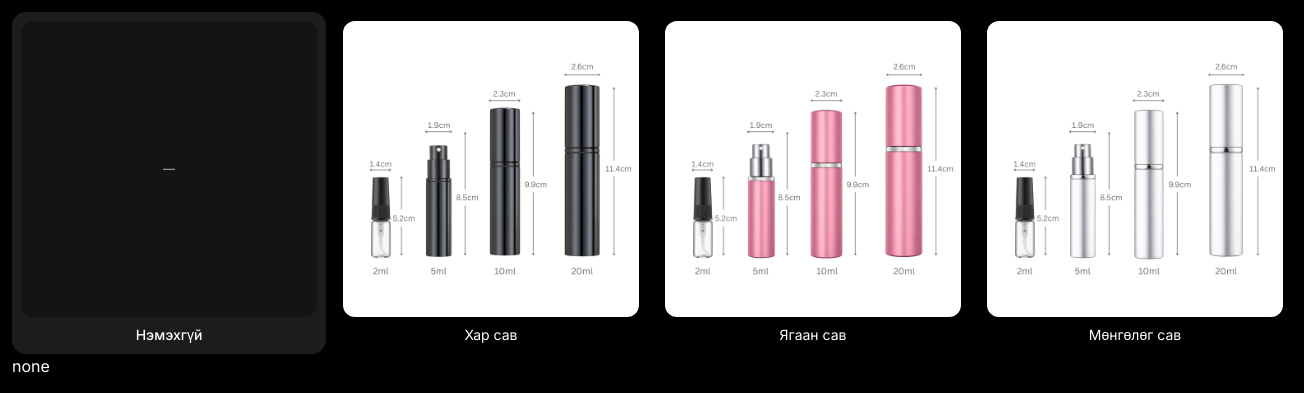
Test case: BottleStylePicker › «Нэмэхгүй» дарж сонголтоо буцаана
Click the radio button labelled "Хар сав" at (491, 183), box x1=334 y1=12 x2=648 y2=354
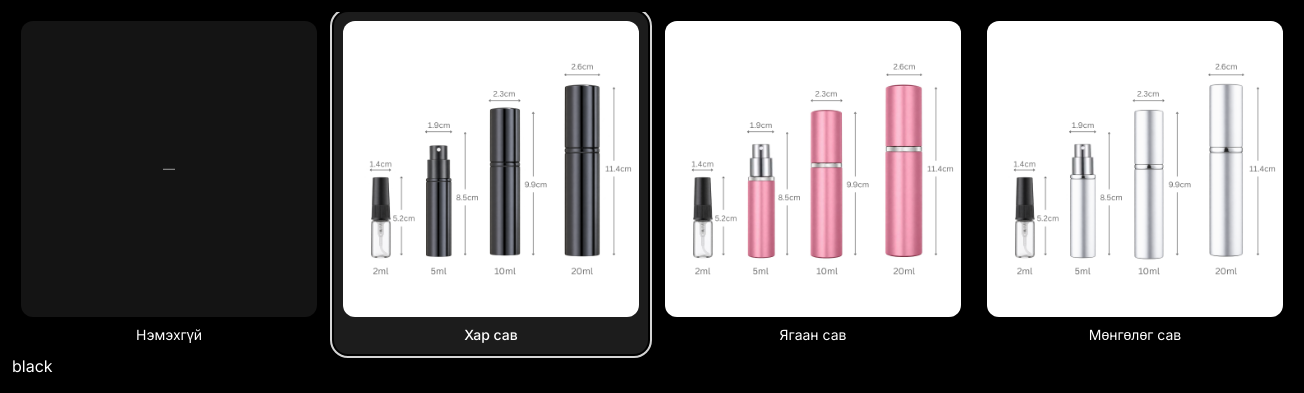
Click the radio button labelled "Нэмэхгүй" at (169, 183), box x1=12 y1=12 x2=326 y2=354
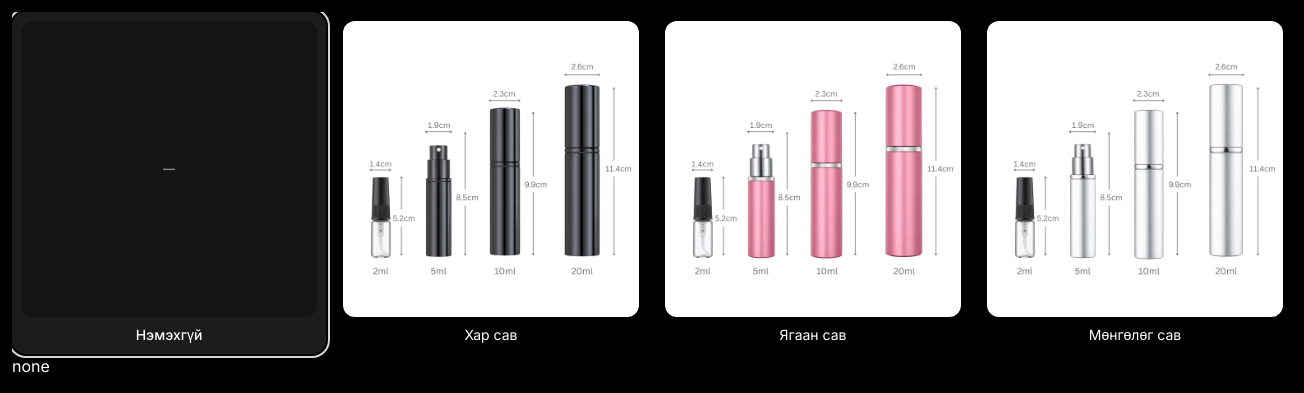
Expected: the text with test id "value" reads "none", x1=12 y1=356 x2=50 y2=376
